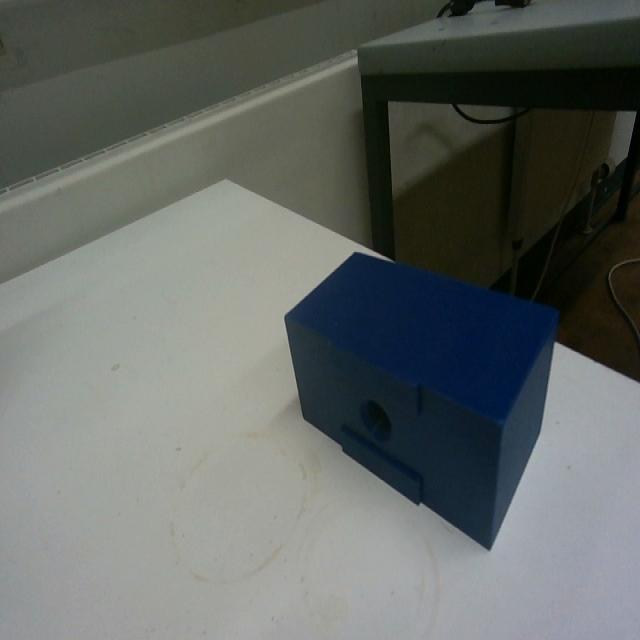Blue Cuboid: (281, 245, 560, 551)
